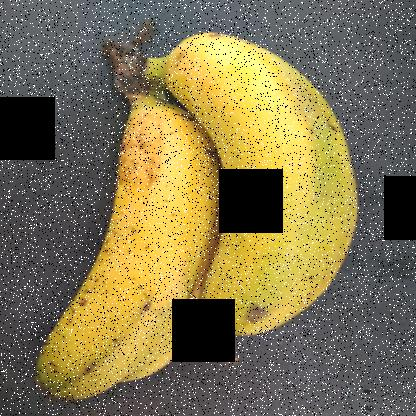freshripe: (180, 32, 380, 366)
ripe: (32, 90, 273, 410)
